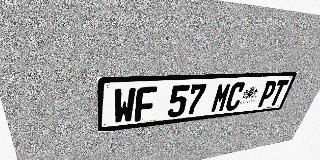5: (167, 85, 190, 118)
7: (184, 84, 207, 116)
C: (224, 82, 247, 111)
F: (134, 86, 157, 122)
M: (210, 83, 233, 113)
P: (256, 80, 278, 108)
T: (268, 80, 289, 106)
W: (113, 87, 136, 124)
